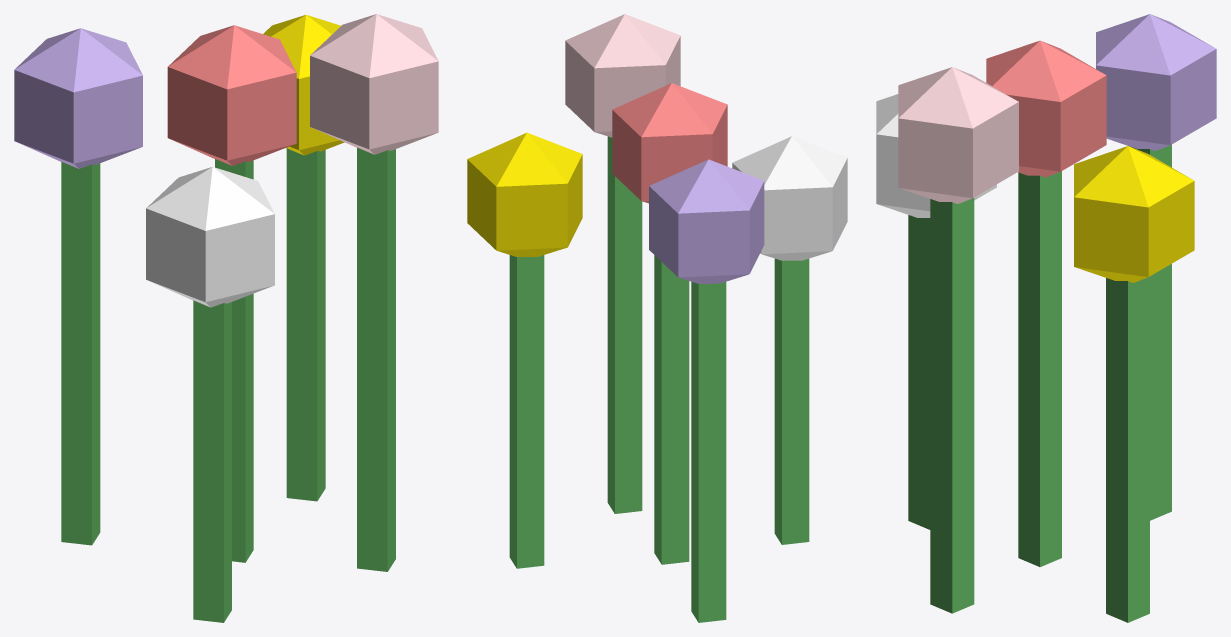
Rendered from flower_patch.glb.
3 renders of one model, left to right at view 1: azimuth 30°, elevation 25°; view 2: azimuth 150°, elevation 25°; view 3: azimuth 270°, elevation 25°, orthographic. The views are drawn at different scales.
Visible parts, largest first — view 1: Stem4, Stem2, Flower0, Flower4, Flower2, Flower3, Stem1, Stem3, Stem0, Flower1; view 2: Stem2, Stem4, Flower2, Flower1, Stem1, Stem0, Stem3, Flower3, Flower0, Flower4; view 3: Stem4, Stem0, Stem1, Flower4, Flower1, Flower2, Flower0, Stem3, Stem2, Flower3.
Boxes of the visible parts, <box> form: Stem4: <box>357,147,395,571</box>; Stem2: <box>61,162,100,545</box>; Flower0: <box>167,25,296,165</box>; Flower4: <box>310,14,438,154</box>; Flower2: <box>14,28,142,168</box>; Flower3: <box>146,166,274,307</box>; Stem1: <box>286,148,325,501</box>; Stem3: <box>193,300,231,622</box>; Stem0: <box>215,159,253,562</box>; Flower1: <box>263,15,344,155</box>; Stem2: <box>691,281,726,622</box>; Stem4: <box>607,136,642,513</box>; Flower2: <box>649,159,764,283</box>; Flower1: <box>467,132,582,256</box>; Stem1: <box>509,255,544,568</box>; Stem0: <box>654,255,689,564</box>; Stem3: <box>774,258,809,544</box>; Flower3: <box>732,136,847,260</box>; Flower0: <box>612,83,727,203</box>; Flower4: <box>565,14,680,137</box>; Stem4: <box>930,198,974,613</box>; Stem0: <box>1018,171,1061,566</box>; Stem1: <box>1106,276,1149,622</box>; Flower4: <box>898,67,1018,203</box>; Flower1: <box>1074,146,1194,282</box>; Flower2: <box>1096,14,1216,150</box>; Flower0: <box>986,40,1106,177</box>; Stem3: <box>908,215,930,529</box>; Stem2: <box>1129,144,1171,520</box>; Flower3: <box>876,94,996,217</box>.
Size of the model in its own units: 0.0335 by 0.054 by 0.031.
